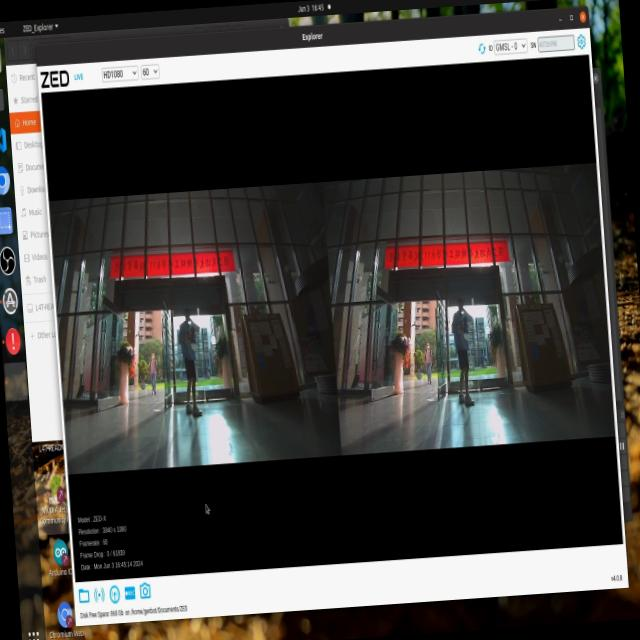blue: (458, 308, 471, 340), (187, 319, 199, 352)
